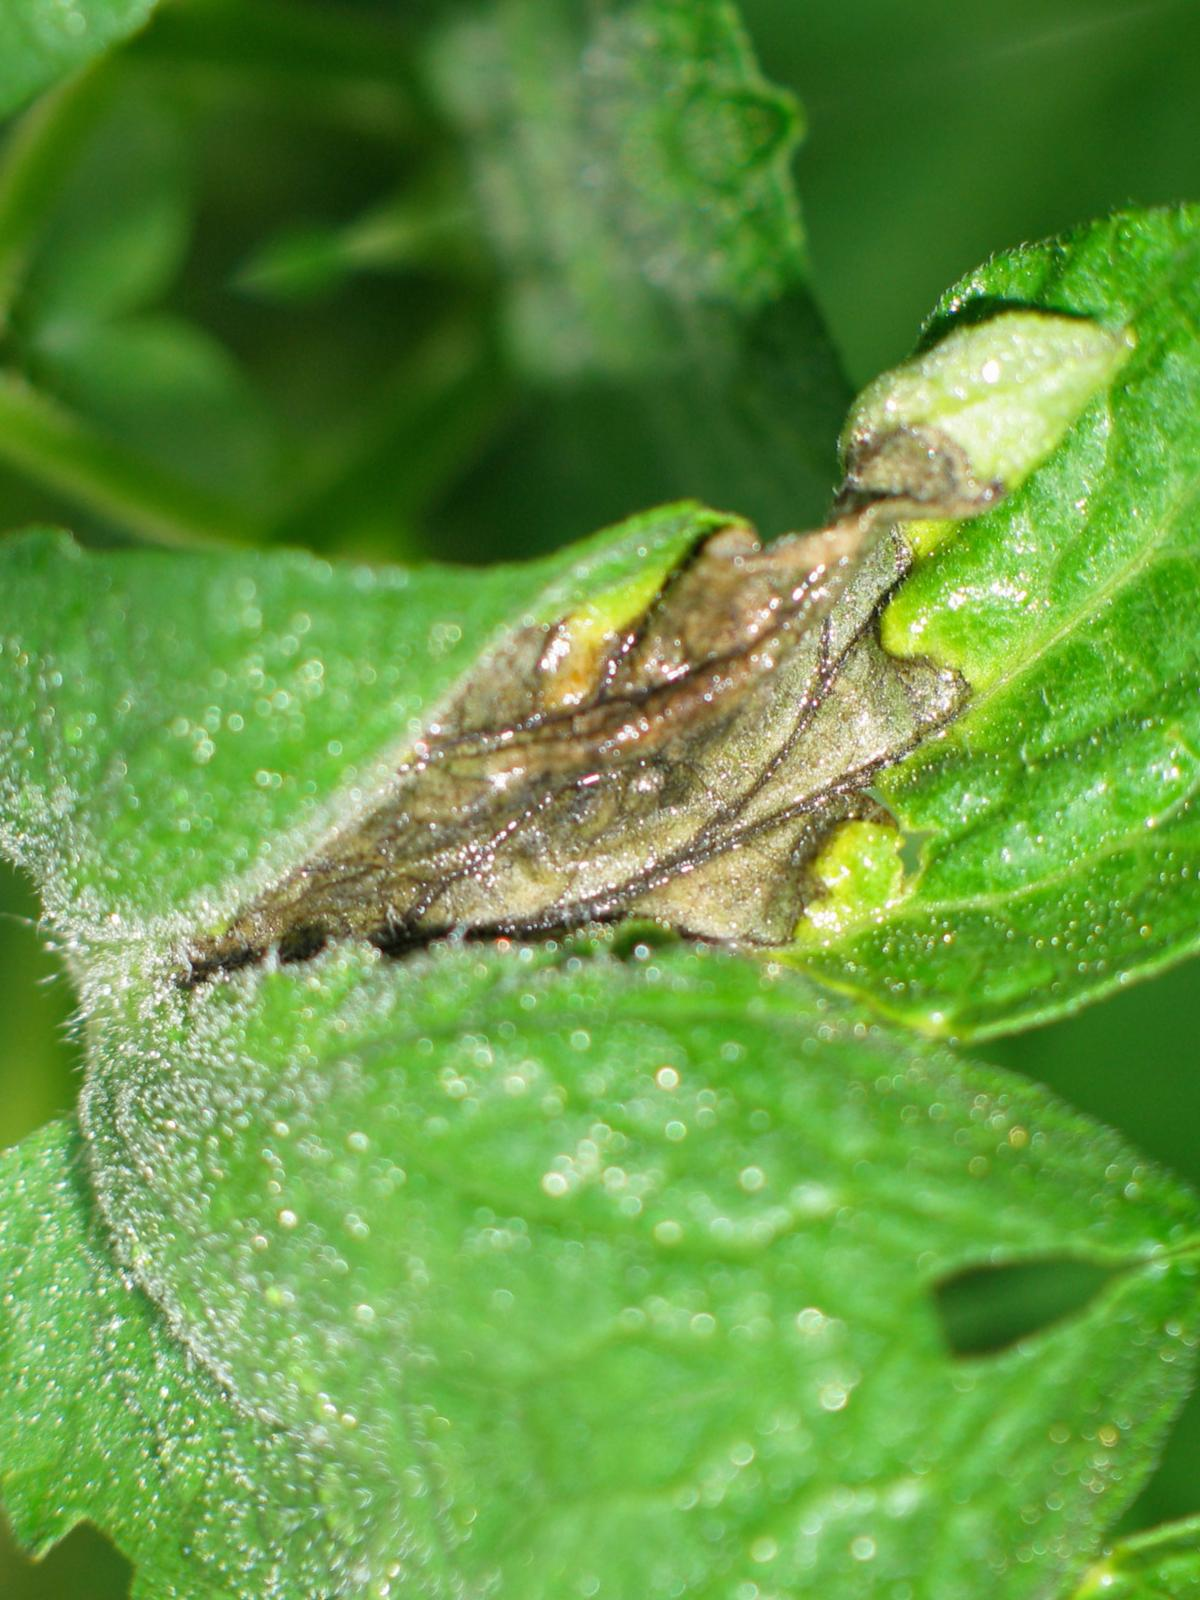Tomato leaf late blight: (0, 131, 1200, 1570)
